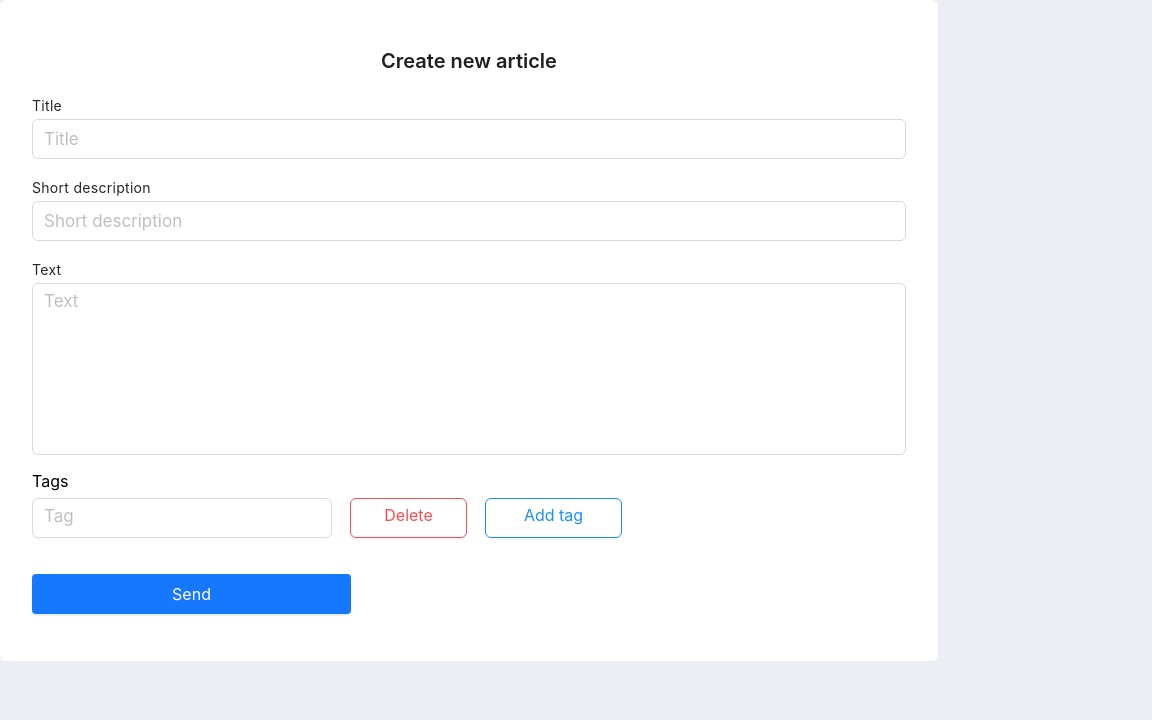
Test case: Component: CreateNewPost › should add new tag when user click add tag button
Expected: the heading "Create new article" is shown, [381,49,557,73]
Type "first" into the field with placeholder "Tag" at (182, 518), box [32,498,332,538]
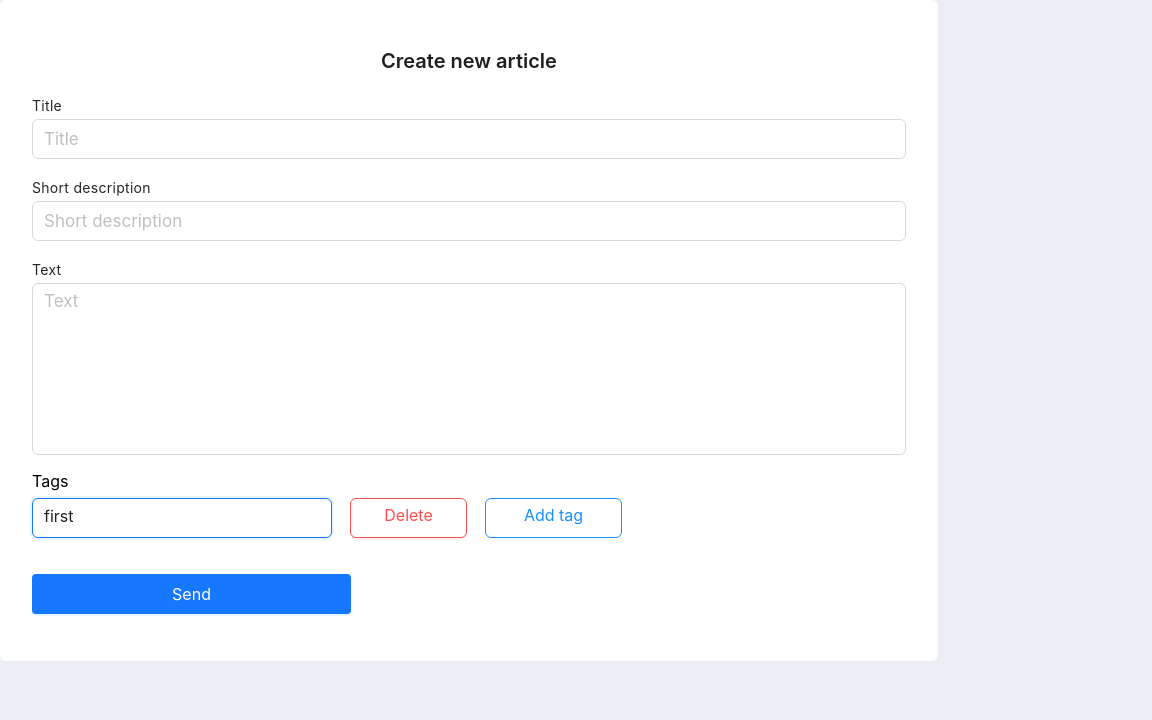
Click the button "Add tag" at (554, 518), box [485,498,622,538]
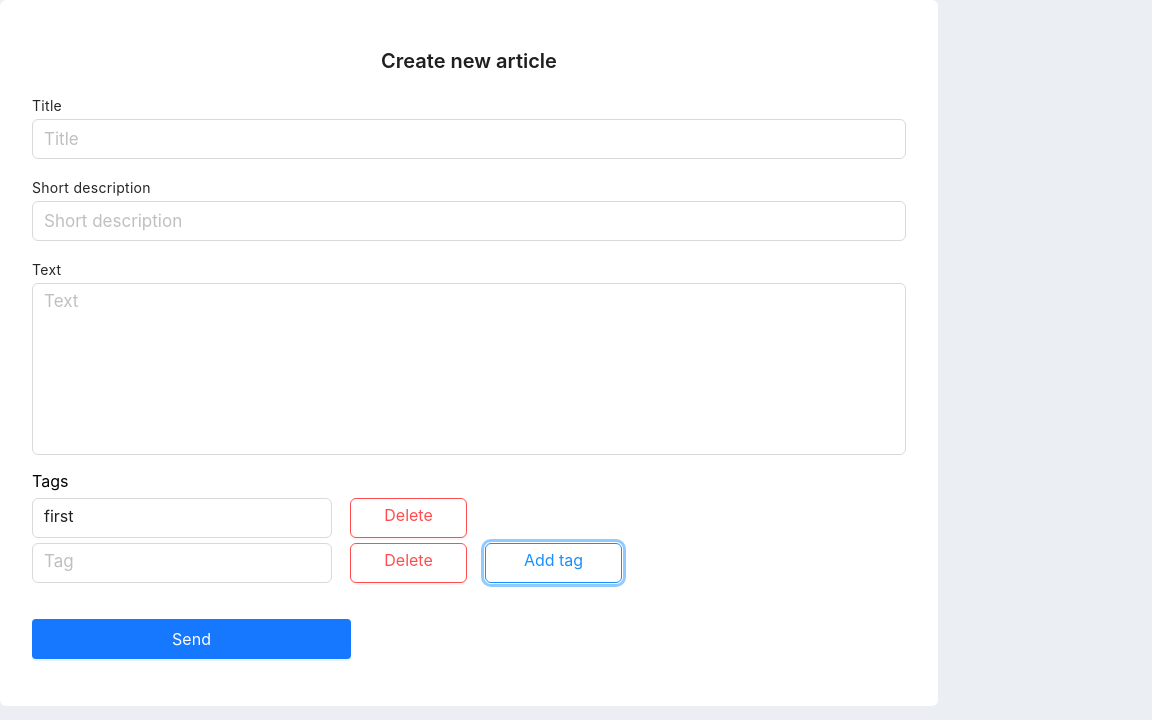
Type "second" into the field with placeholder "Tag" at (182, 563), box [32,543,332,583]
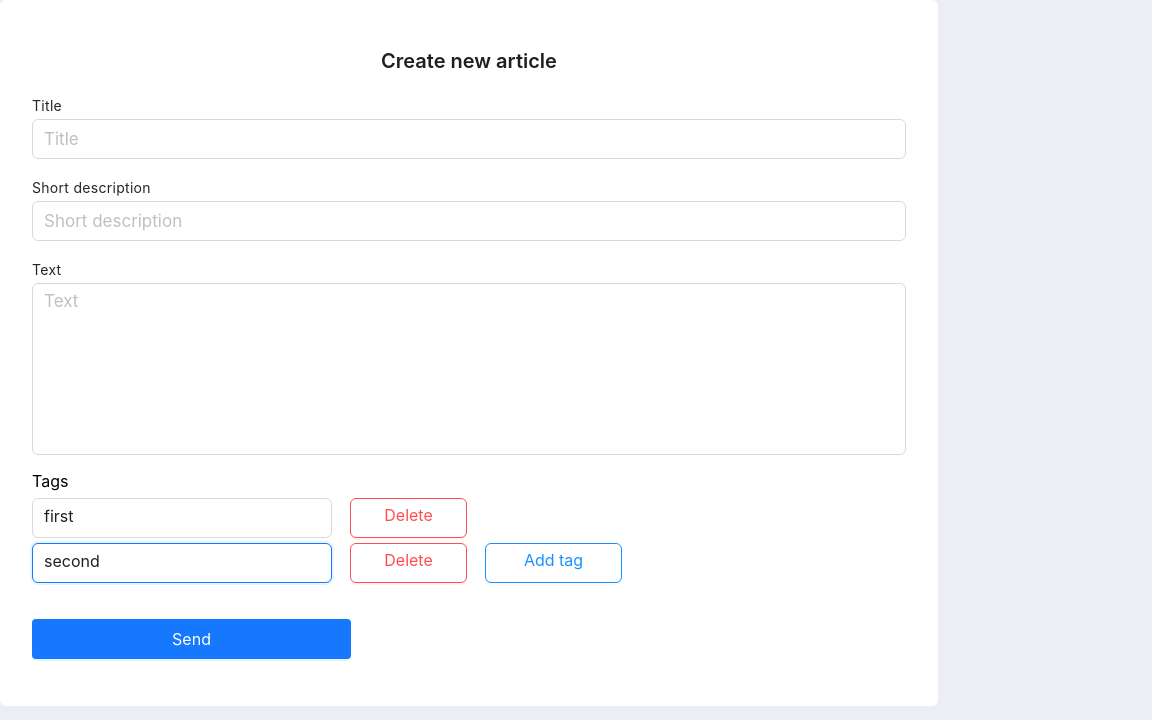
Click the button "Add tag" at (554, 563), box [485,543,622,583]
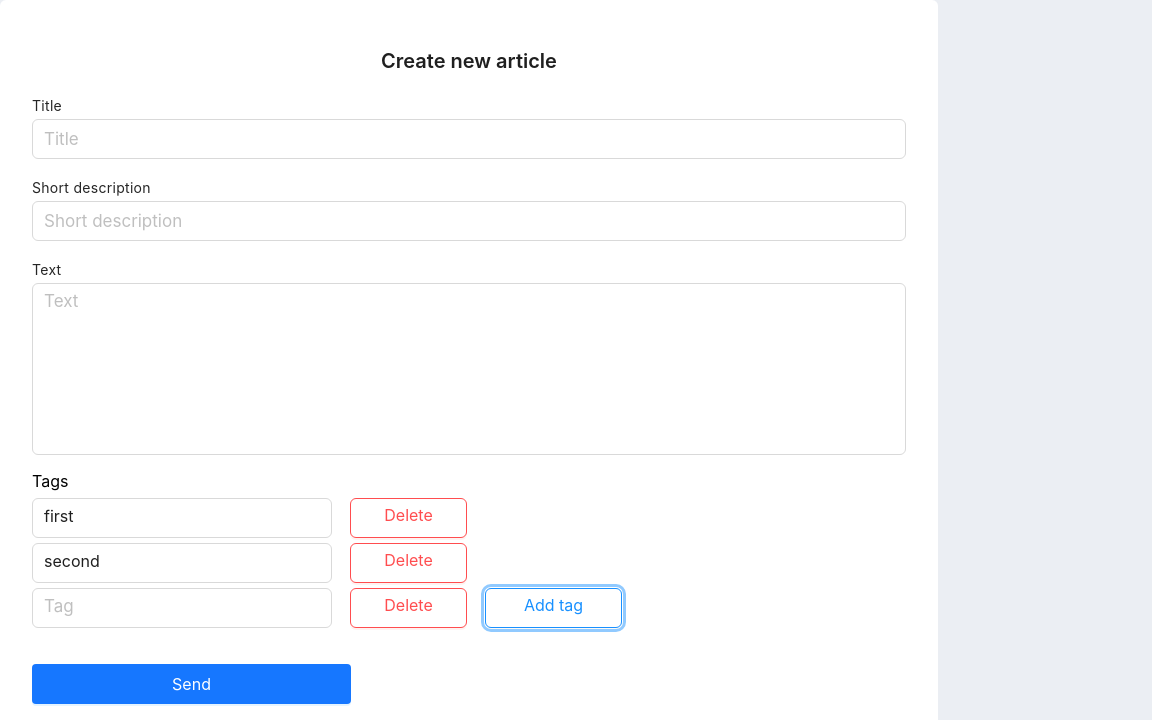
Now the 1st field showing "first" is shown, box [32,498,332,538]
Now the 2nd field showing "second" is shown, box [32,543,332,583]
